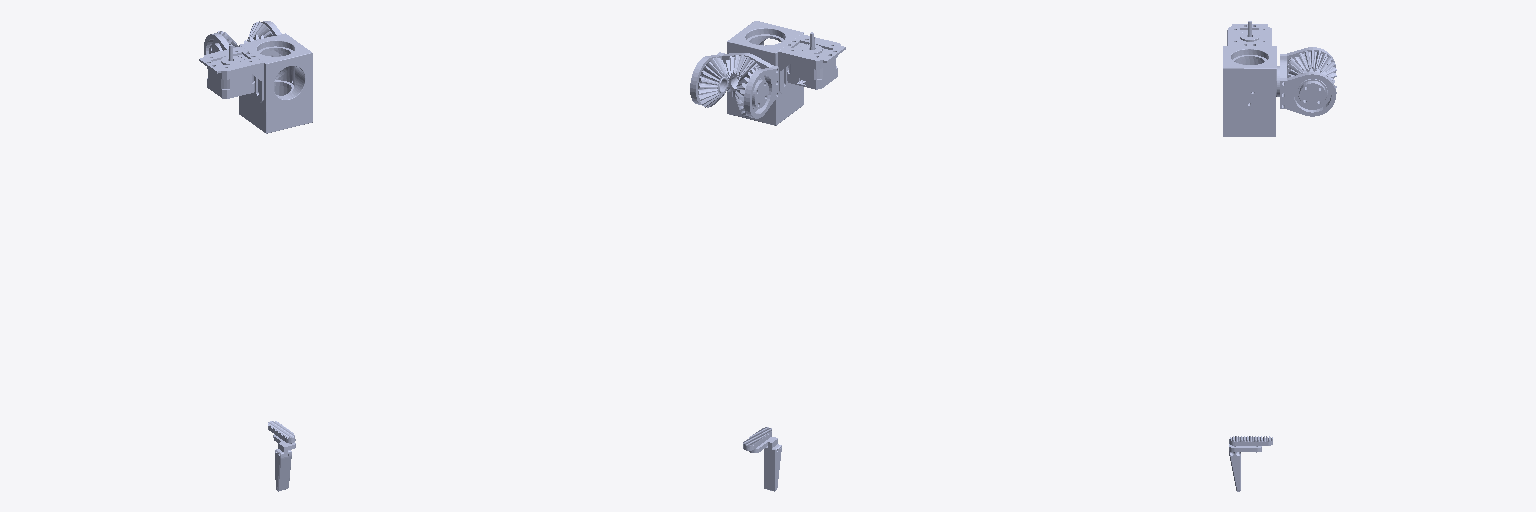
The robot description file, URDF, robot "robot_arm_gripper_limit":
<?xml version="1.0" encoding="utf-8"?>
<!-- This URDF was automatically created by SolidWorks to URDF Exporter! Originally created by [author] ([email redacted]) 
     Commit Version: 1.6.0-1-g15f4949  Build Version: 1.6.7594.29634
     For more information, please see http://wiki.ros.org/sw_urdf_exporter -->
<robot
  name="robot_arm_gripper_limit">
  <link
    name="base_link">
    <inertial>
      <origin
        xyz="0.0317735815793905 0.166642593017249 -0.035235787414242"
        rpy="0 0 0" />
      <mass
        value="0.685757374248979" />
      <inertia
        ixx="0.00345745077407554"
        ixy="3.07155155477206E-09"
        ixz="1.91791459626495E-10"
        iyy="0.000247108413615161"
        iyz="-4.08545352657761E-09"
        izz="0.00347115270404034" />
    </inertial>
    <visual>
      <origin
        xyz="0 0 0"
        rpy="0 0 0" />
      <geometry>
        <mesh
          filename="package://robot_arm_gripper_limit/meshes/base_link.STL" />
      </geometry>
      <material
        name="">
        <color
          rgba="0.792156862745098 0.819607843137255 0.933333333333333 1" />
      </material>
    </visual>
    <collision>
      <origin
        xyz="0 0 0"
        rpy="0 0 0" />
      <geometry>
        <mesh
          filename="package://robot_arm_gripper_limit/meshes/base_link.STL" />
      </geometry>
    </collision>
  </link>
  <link
    name="Link1">
    <inertial>
      <origin
        xyz="0.0916699630460542 -0.0442131896758257 -0.0675145782975689"
        rpy="0 0 0" />
      <mass
        value="0.435483637108004" />
      <inertia
        ixx="0.00055486116019056"
        ixy="-1.69557458853626E-06"
        ixz="1.10984979186947E-06"
        iyy="0.000673341919357431"
        iyz="5.78646066757352E-05"
        izz="0.000786642436673375" />
    </inertial>
    <visual>
      <origin
        xyz="0 0 0"
        rpy="0 0 0" />
      <geometry>
        <mesh
          filename="package://robot_arm_gripper_limit/meshes/Link1.STL" />
      </geometry>
      <material
        name="">
        <color
          rgba="0.792156862745098 0.819607843137255 0.933333333333333 1" />
      </material>
    </visual>
    <collision>
      <origin
        xyz="0 0 0"
        rpy="0 0 0" />
      <geometry>
        <mesh
          filename="package://robot_arm_gripper_limit/meshes/Link1.STL" />
      </geometry>
    </collision>
  </link>
  <joint
    name="joint1"
    type="prismatic">
    <origin
      xyz="0.079186 -0.036824 0.4563"
      rpy="3.1416 0 1.5708" />
    <parent
      link="base_link" />
    <child
      link="Link1" />
    <axis
      xyz="0 0 1" />
    <limit
      lower="0"
      upper="0.3"
      effort="0"
      velocity="0" />
  </joint>
  <link
    name="Link2">
    <inertial>
      <origin
        xyz="-0.0362242257746982 0.00610793662936295 -4.5353654753777E-05"
        rpy="0 0 0" />
      <mass
        value="0.0692232619946468" />
      <inertia
        ixx="2.30301654770883E-05"
        ixy="-3.32021307583526E-12"
        ixz="9.55728406826345E-12"
        iyy="1.60035358829875E-05"
        iyz="3.10360859630108E-08"
        izz="1.67020019173867E-05" />
    </inertial>
    <visual>
      <origin
        xyz="0 0 0"
        rpy="0 0 0" />
      <geometry>
        <mesh
          filename="package://robot_arm_gripper_limit/meshes/Link2.STL" />
      </geometry>
      <material
        name="">
        <color
          rgba="0.792156862745098 0.819607843137255 0.933333333333333 1" />
      </material>
    </visual>
    <collision>
      <origin
        xyz="0 0 0"
        rpy="0 0 0" />
      <geometry>
        <mesh
          filename="package://robot_arm_gripper_limit/meshes/Link2.STL" />
      </geometry>
    </collision>
  </link>
  <joint
    name="joint2"
    type="revolute">
    <origin
      xyz="0 -0.0083 -0.067713"
      rpy="-0.0070619 0 1.5708" />
    <parent
      link="Link1" />
    <child
      link="Link2" />
    <axis
      xyz="1 0 0" />
    <limit
      lower="-1.5"
      upper="0.15"
      effort="0"
      velocity="0" />
  </joint>
  <link
    name="Link3">
    <inertial>
      <origin
        xyz="-0.0399745519133712 0.0558310805168143 -0.0316989413542668"
        rpy="0 0 0" />
      <mass
        value="0.256407451082195" />
      <inertia
        ixx="0.000181490660126937"
        ixy="1.7331515868754E-06"
        ixz="1.25188642393082E-05"
        iyy="0.000203552436340242"
        iyz="-1.76484174404526E-06"
        izz="0.000178856893048134" />
    </inertial>
    <visual>
      <origin
        xyz="0 0 0"
        rpy="0 0 0" />
      <geometry>
        <mesh
          filename="package://robot_arm_gripper_limit/meshes/Link3.STL" />
      </geometry>
      <material
        name="">
        <color
          rgba="0.792156862745098 0.819607843137255 0.933333333333333 1" />
      </material>
    </visual>
    <collision>
      <origin
        xyz="0 0 0"
        rpy="0 0 0" />
      <geometry>
        <mesh
          filename="package://robot_arm_gripper_limit/meshes/Link3.STL" />
      </geometry>
    </collision>
  </link>
  <joint
    name="joint3"
    type="revolute">
    <origin
      xyz="0 0.01 0"
      rpy="0 0.78602 0" />
    <parent
      link="Link2" />
    <child
      link="Link3" />
    <axis
      xyz="0 1 0" />
    <limit
      lower="-1.5"
      upper="1.5"
      effort="0"
      velocity="0" />
  </joint>
  <link
    name="Link4">
    <inertial>
      <origin
        xyz="-0.109016179296857 -0.00125414996636077 -3.82551769230327E-05"
        rpy="0 0 0" />
      <mass
        value="0.307213644543192" />
      <inertia
        ixx="0.000100181559494598"
        ixy="1.4801671961557E-08"
        ixz="-2.69300229846964E-07"
        iyy="0.000601480975551127"
        iyz="2.36788719461813E-10"
        izz="0.000556821791320743" />
    </inertial>
    <visual>
      <origin
        xyz="0 0 0"
        rpy="0 0 0" />
      <geometry>
        <mesh
          filename="package://robot_arm_gripper_limit/meshes/Link4.STL" />
      </geometry>
      <material
        name="">
        <color
          rgba="1 1 1 1" />
      </material>
    </visual>
    <collision>
      <origin
        xyz="0 0 0"
        rpy="0 0 0" />
      <geometry>
        <mesh
          filename="package://robot_arm_gripper_limit/meshes/Link4.STL" />
      </geometry>
    </collision>
  </link>
  <joint
    name="joint4"
    type="revolute">
    <origin
      xyz="-0.025598 0.060574 -0.02563"
      rpy="-3.1416 0.78477 0" />
    <parent
      link="Link3" />
    <child
      link="Link4" />
    <axis
      xyz="1 0 0" />
    <limit
      lower="-1.5"
      upper="1.5"
      effort="0"
      velocity="0" />
  </joint>
  <link
    name="Link5">
    <inertial>
      <origin
        xyz="-4.03053779962151E-05 0.00226785503086654 0.000188099816106957"
        rpy="0 0 0" />
      <mass
        value="0.0783880463610159" />
      <inertia
        ixx="1.98092122009333E-05"
        ixy="-4.85880932082386E-09"
        ixz="8.53128675466766E-09"
        iyy="1.68289094477428E-05"
        iyz="3.70335541134835E-07"
        izz="2.75893747032841E-05" />
    </inertial>
    <visual>
      <origin
        xyz="0 0 0"
        rpy="0 0 0" />
      <geometry>
        <mesh
          filename="package://robot_arm_gripper_limit/meshes/Link5.STL" />
      </geometry>
      <material
        name="">
        <color
          rgba="0.792156862745098 0.819607843137255 0.933333333333333 1" />
      </material>
    </visual>
    <collision>
      <origin
        xyz="0 0 0"
        rpy="0 0 0" />
      <geometry>
        <mesh
          filename="package://robot_arm_gripper_limit/meshes/Link5.STL" />
      </geometry>
    </collision>
  </link>
  <joint
    name="join5"
    type="revolute">
    <origin
      xyz="-0.24155 0 0"
      rpy="3.1416 1.5708 0" />
    <parent
      link="Link4" />
    <child
      link="Link5" />
    <axis
      xyz="0 1 0" />
    <limit
      lower="0"
      upper="2.094"
      effort="0"
      velocity="0" />
  </joint>
  <link
    name="Link6">
    <inertial>
      <origin
        xyz="-5.00848839944529E-05 8.17726245663924E-05 0.0907551221577791"
        rpy="0 0 0" />
      <mass
        value="0.2542827086826" />
      <inertia
        ixx="0.000360079481170321"
        ixy="1.03149076873174E-08"
        ixz="-9.44915201772661E-08"
        iyy="0.000366765636267165"
        iyz="8.73675644228796E-08"
        izz="9.00853421805243E-05" />
    </inertial>
    <visual>
      <origin
        xyz="0 0 0"
        rpy="0 0 0" />
      <geometry>
        <mesh
          filename="package://robot_arm_gripper_limit/meshes/Link6.STL" />
      </geometry>
      <material
        name="">
        <color
          rgba="0.792156862745098 0.819607843137255 0.933333333333333 1" />
      </material>
    </visual>
    <collision>
      <origin
        xyz="0 0 0"
        rpy="0 0 0" />
      <geometry>
        <mesh
          filename="package://robot_arm_gripper_limit/meshes/Link6.STL" />
      </geometry>
    </collision>
  </link>
  <joint
    name="joint6"
    type="revolute">
    <origin
      xyz="0 0 0.023604"
      rpy="0 0 -1.5708" />
    <parent
      link="Link5" />
    <child
      link="Link6" />
    <axis
      xyz="0 0 1" />
    <limit
      lower="0"
      upper="6.28"
      effort="0"
      velocity="0" />
  </joint>
  <link
    name="Linkf1">
    <inertial>
      <origin
        xyz="-0.0154418195734002 -0.0350436191457829 -0.00592283358925962"
        rpy="0 0 0" />
      <mass
        value="0.0125868643518797" />
      <inertia
        ixx="1.34045244072917E-06"
        ixy="1.39789235308191E-07"
        ixz="-5.22211204327983E-08"
        iyy="1.12767249075911E-06"
        iyz="-1.81924089482309E-08"
        izz="2.01915556442829E-06" />
    </inertial>
    <visual>
      <origin
        xyz="0 0 0"
        rpy="0 0 0" />
      <geometry>
        <mesh
          filename="package://robot_arm_gripper_limit/meshes/Linkf1.STL" />
      </geometry>
      <material
        name="">
        <color
          rgba="0.792156862745098 0.819607843137255 0.933333333333333 1" />
      </material>
    </visual>
    <collision>
      <origin
        xyz="0 0 0"
        rpy="0 0 0" />
      <geometry>
        <mesh
          filename="package://robot_arm_gripper_limit/meshes/Linkf1.STL" />
      </geometry>
    </collision>
  </link>
  <joint
    name="joinf1"
    type="prismatic">
    <origin
      xyz="0 0.0092015 0.16431"
      rpy="-1.5886 -0.19632 0.0034715" />
    <parent
      link="Link6" />
    <child
      link="Linkf1" />
    <axis
      xyz="0.98079 0.19509 0" />
    <limit
      lower="0.01"
      upper="0.023"
      effort="0"
      velocity="0" />
  </joint>
  <link
    name="Linkf2">
    <inertial>
      <origin
        xyz="-0.0145299887455889 -0.0348622446550819 0.013077166404756"
        rpy="0 0 0" />
      <mass
        value="0.0125868643006155" />
      <inertia
        ixx="1.34045242046199E-06"
        ixy="1.39789230012992E-07"
        ixz="-5.22211190217902E-08"
        iyy="1.1276724867428E-06"
        iyz="-1.81924050330661E-08"
        izz="2.01915554315492E-06" />
    </inertial>
    <visual>
      <origin
        xyz="0 0 0"
        rpy="0 0 0" />
      <geometry>
        <mesh
          filename="package://robot_arm_gripper_limit/meshes/Linkf2.STL" />
      </geometry>
      <material
        name="">
        <color
          rgba="0.792156862745098 0.819607843137255 0.933333333333333 1" />
      </material>
    </visual>
    <collision>
      <origin
        xyz="0 0 0"
        rpy="0 0 0" />
      <geometry>
        <mesh
          filename="package://robot_arm_gripper_limit/meshes/Linkf2.STL" />
      </geometry>
    </collision>
  </link>
  <joint
    name="jointf2"
    type="prismatic">
    <origin
      xyz="0 0.0092015 0.16431"
      rpy="-1.553 -0.19632 3.1381" />
    <parent
      link="Link6" />
    <child
      link="Linkf2" />
    <axis
      xyz="0.98079 0.19509 0" />
    <limit
      lower="0.01"
      upper="0.023"
      effort="0"
      velocity="0" />
  </joint>
</robot>

--- Render facts (derived) ---
Views: 3 orthographic renders of the robot side by side, from view 1: azimuth 30°, elevation 25°; view 2: azimuth 150°, elevation 25°; view 3: azimuth 270°, elevation 25°.
Model robot_arm_gripper_limit with 9 links and 8 joints (5 revolute, 3 prismatic), rooted at base_link, posed all joints at 0 but 2 set to mid-range because 0 is outside their limits (joinf1 = 0.0165, jointf2 = 0.0165).
Visible links, largest first — view 1: Link3, Linkf1, Link2; view 2: Link3, Link2, Linkf1; view 3: Link3, Link2, Linkf1.
Boxes of the visible links, x1,y1,x2,y2 form: Link3: (199, 33, 312, 133); Linkf1: (268, 421, 295, 491); Link2: (204, 21, 281, 54); Link3: (724, 21, 845, 125); Link2: (690, 52, 778, 118); Linkf1: (743, 427, 781, 491); Link3: (1223, 21, 1302, 136); Link2: (1280, 47, 1336, 116); Linkf1: (1229, 436, 1272, 491).
Bounding box of the posed robot: 0.1228 × 0.1287 × 0.5509 m (x, y, z).
Meshes: 9 distinct files referenced, 3 mesh visuals loaded (3 binary STL); not drawn: 6 (reference not matched to a file when rendering).